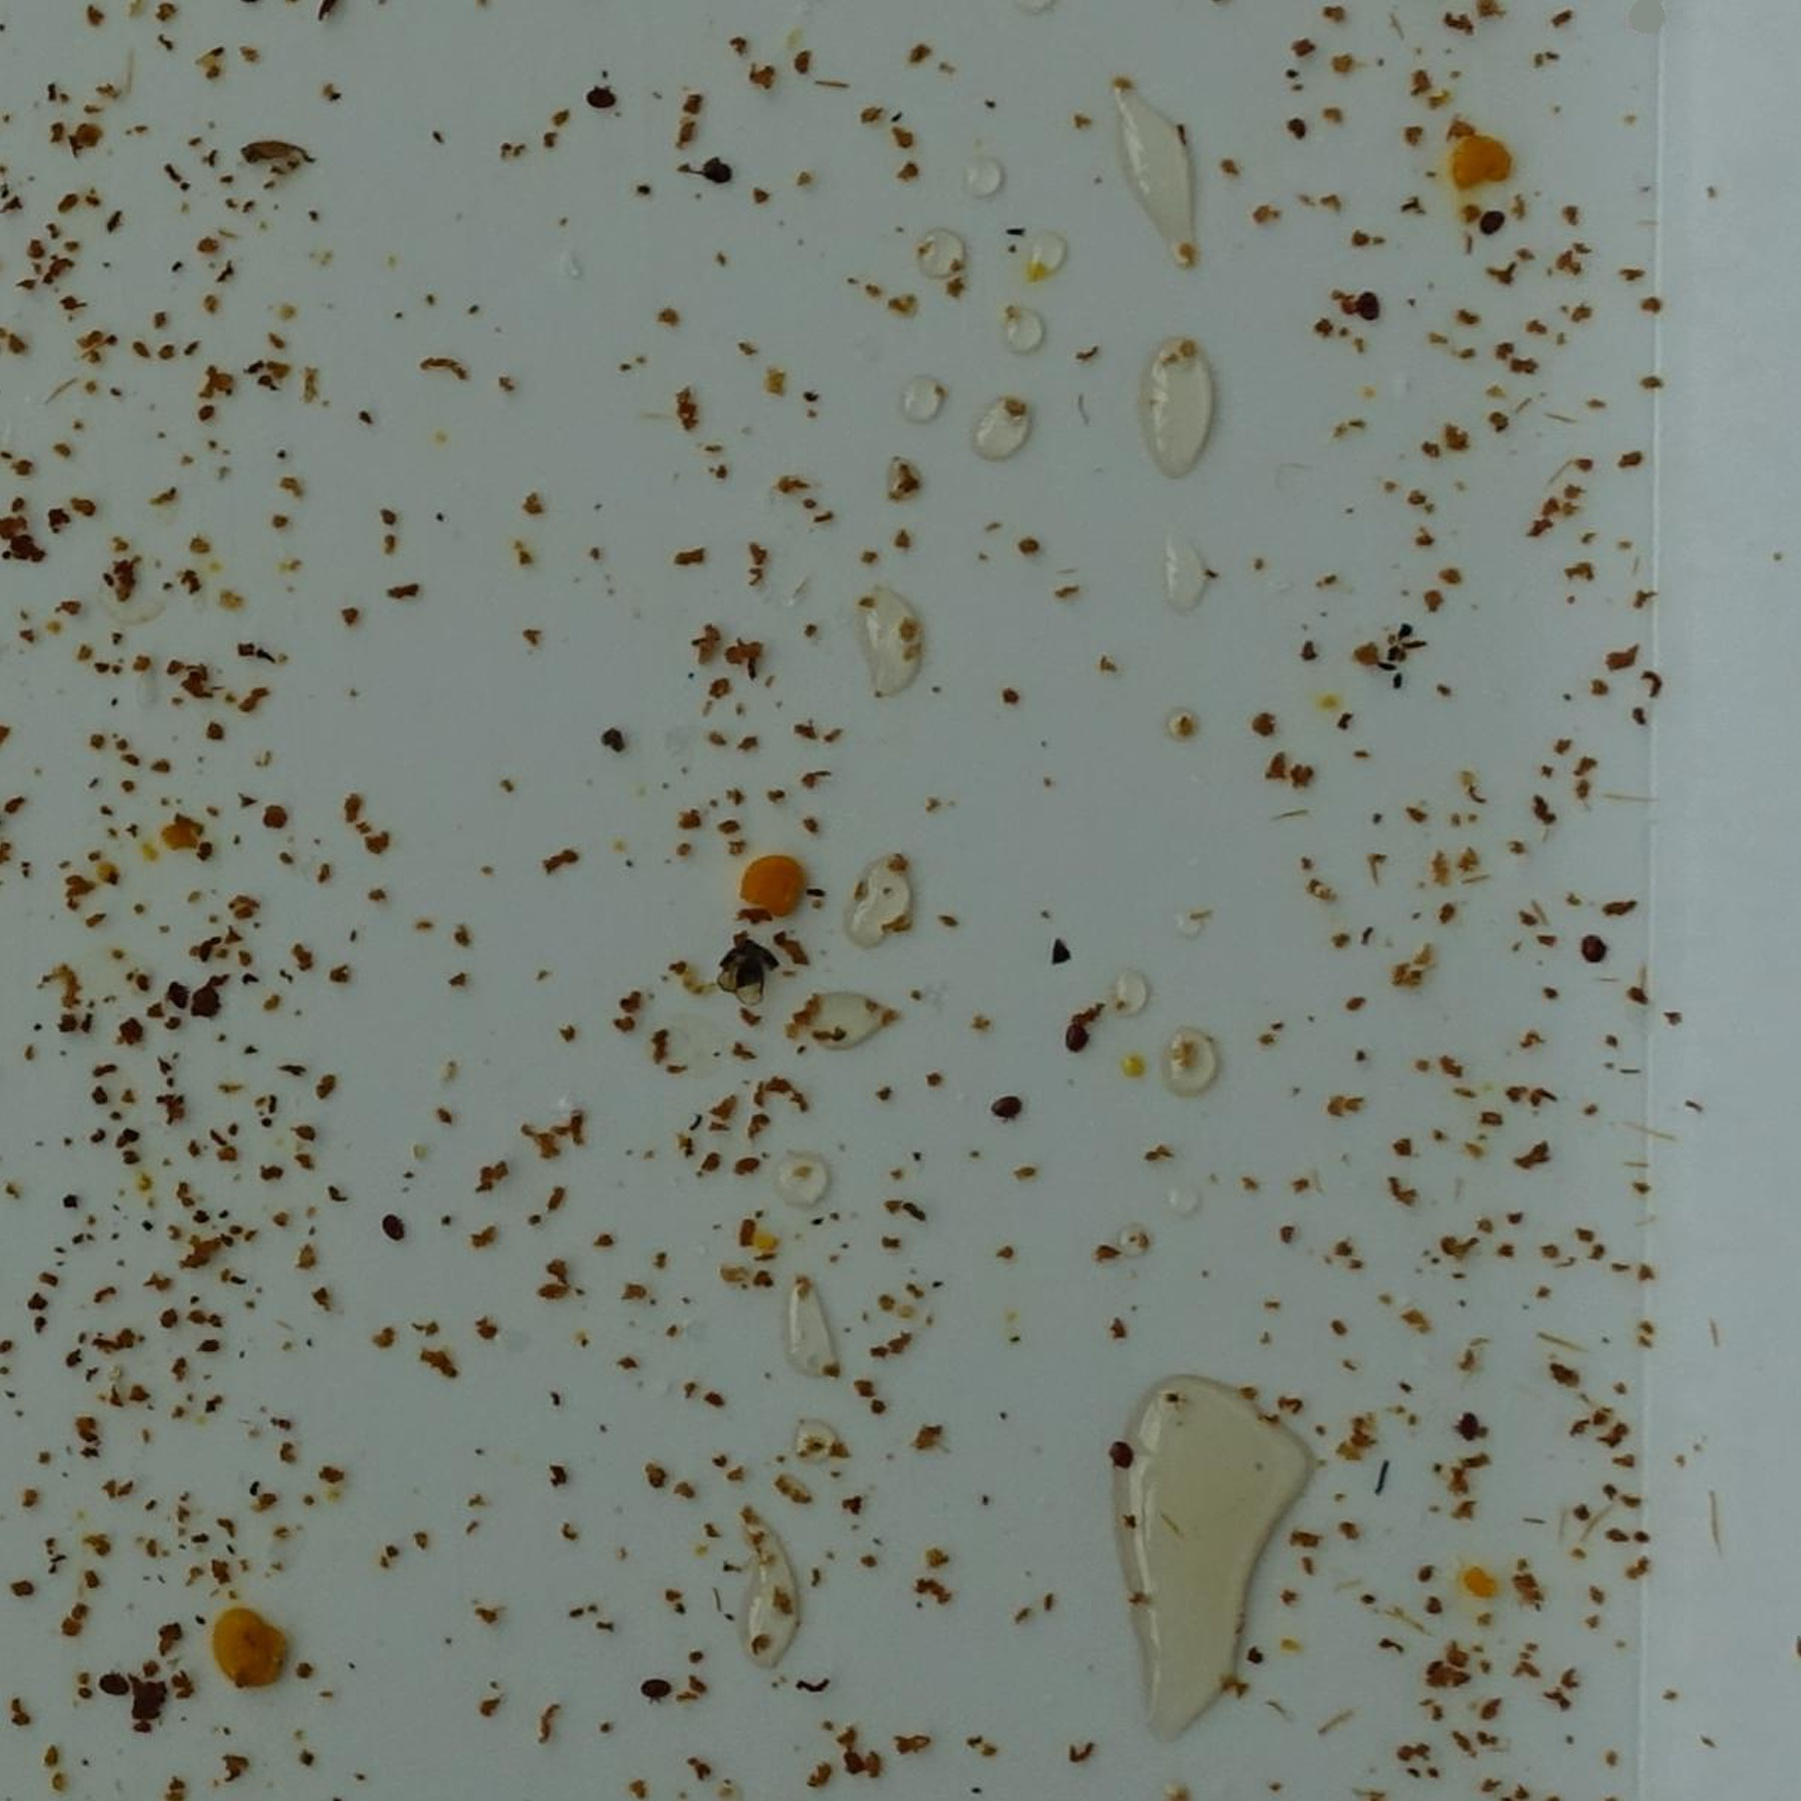Varroa: (167, 981, 200, 1014), (991, 1092, 1019, 1122), (645, 1676, 673, 1705), (1107, 1437, 1135, 1465), (585, 84, 612, 114), (1575, 932, 1601, 960), (101, 1669, 127, 1695), (1456, 1412, 1483, 1438), (1060, 1023, 1085, 1051), (1347, 294, 1372, 322), (1486, 205, 1511, 229), (384, 1216, 407, 1240)
